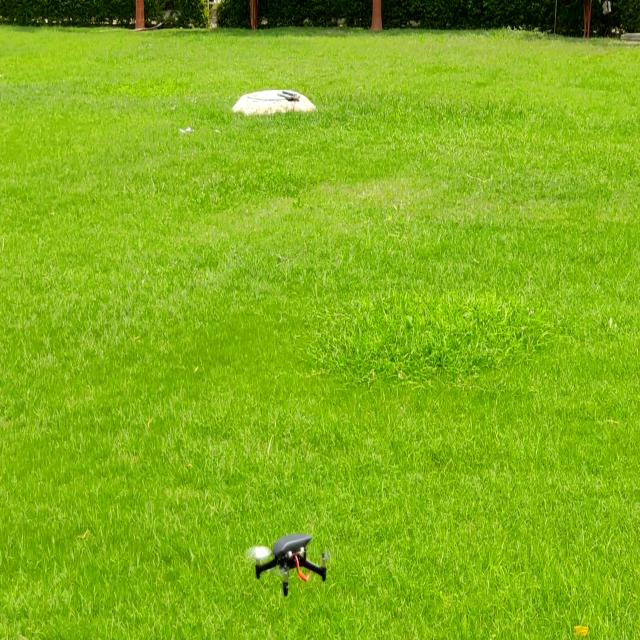drone: (235, 532, 343, 598)
